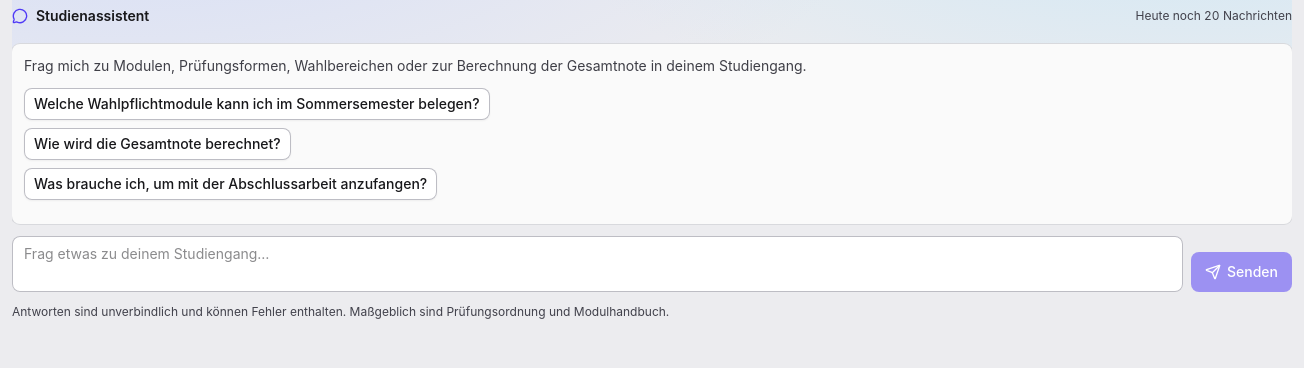
Test: study assistant › explains a used-up daily limit and keeps the question
Type "Noch eine Frage" into the text box named "Deine Frage" at (598, 264), box x1=12 y1=236 x2=1183 y2=292
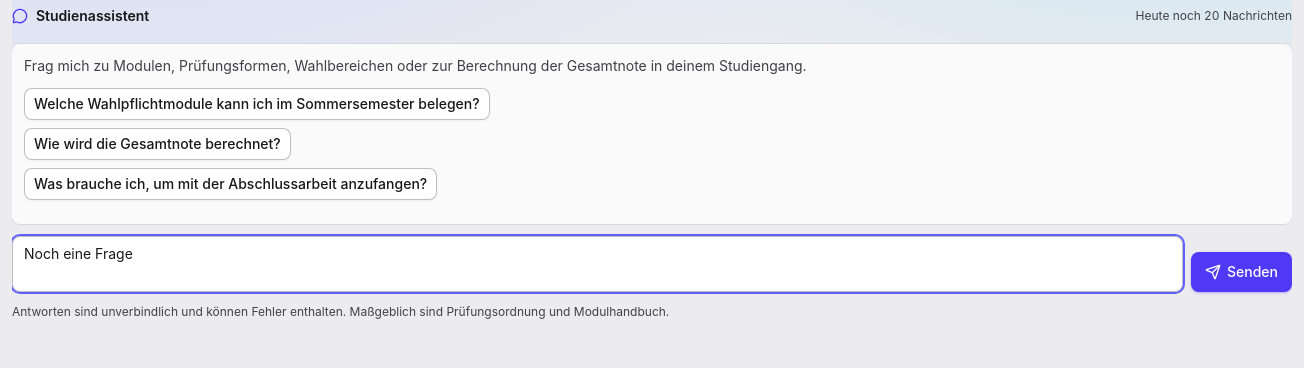
Click the button "Senden" at (1242, 272), box x1=1191 y1=252 x2=1292 y2=292
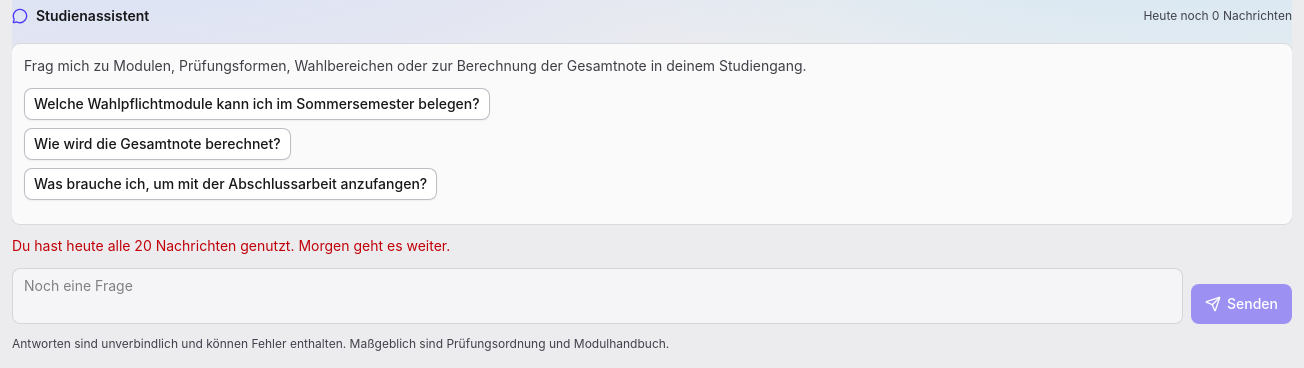
Result: the message shows "Du hast heute alle 20 Nachrichten genutzt." at x1=12 y1=237 x2=450 y2=254
